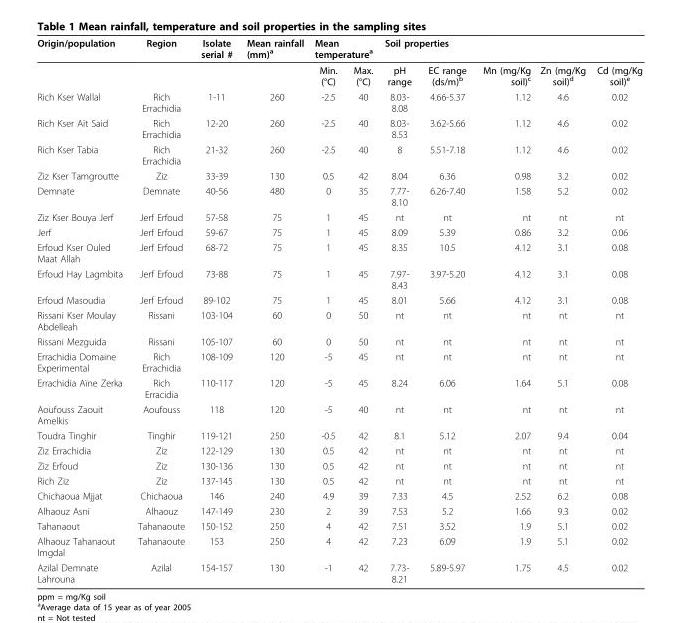table: (36, 36, 641, 583)
table column: (36, 36, 129, 583), (238, 36, 308, 583), (129, 36, 192, 583), (473, 36, 534, 583), (534, 36, 590, 583), (419, 36, 473, 583), (590, 36, 641, 583), (192, 36, 238, 583), (378, 36, 419, 583), (308, 36, 344, 583), (344, 36, 378, 583)
table column header: (36, 36, 641, 88)
table row: (36, 61, 641, 88), (36, 88, 641, 115), (36, 182, 641, 209), (36, 265, 641, 292), (36, 374, 641, 401), (36, 115, 641, 141), (36, 141, 641, 167), (36, 239, 641, 265), (36, 307, 641, 333), (36, 348, 641, 374), (36, 401, 641, 427), (36, 533, 641, 559), (36, 36, 641, 61), (36, 559, 641, 583), (36, 487, 641, 503), (36, 167, 641, 182), (36, 209, 641, 224), (36, 224, 641, 239), (36, 292, 641, 307), (36, 333, 641, 348), (36, 427, 641, 442), (36, 442, 641, 457), (36, 457, 641, 472), (36, 472, 641, 487), (36, 503, 641, 518), (36, 518, 641, 533)
table spanning cell: (378, 36, 641, 61), (36, 36, 129, 88), (238, 36, 308, 88), (129, 36, 192, 88), (192, 36, 238, 88), (308, 36, 378, 61)
